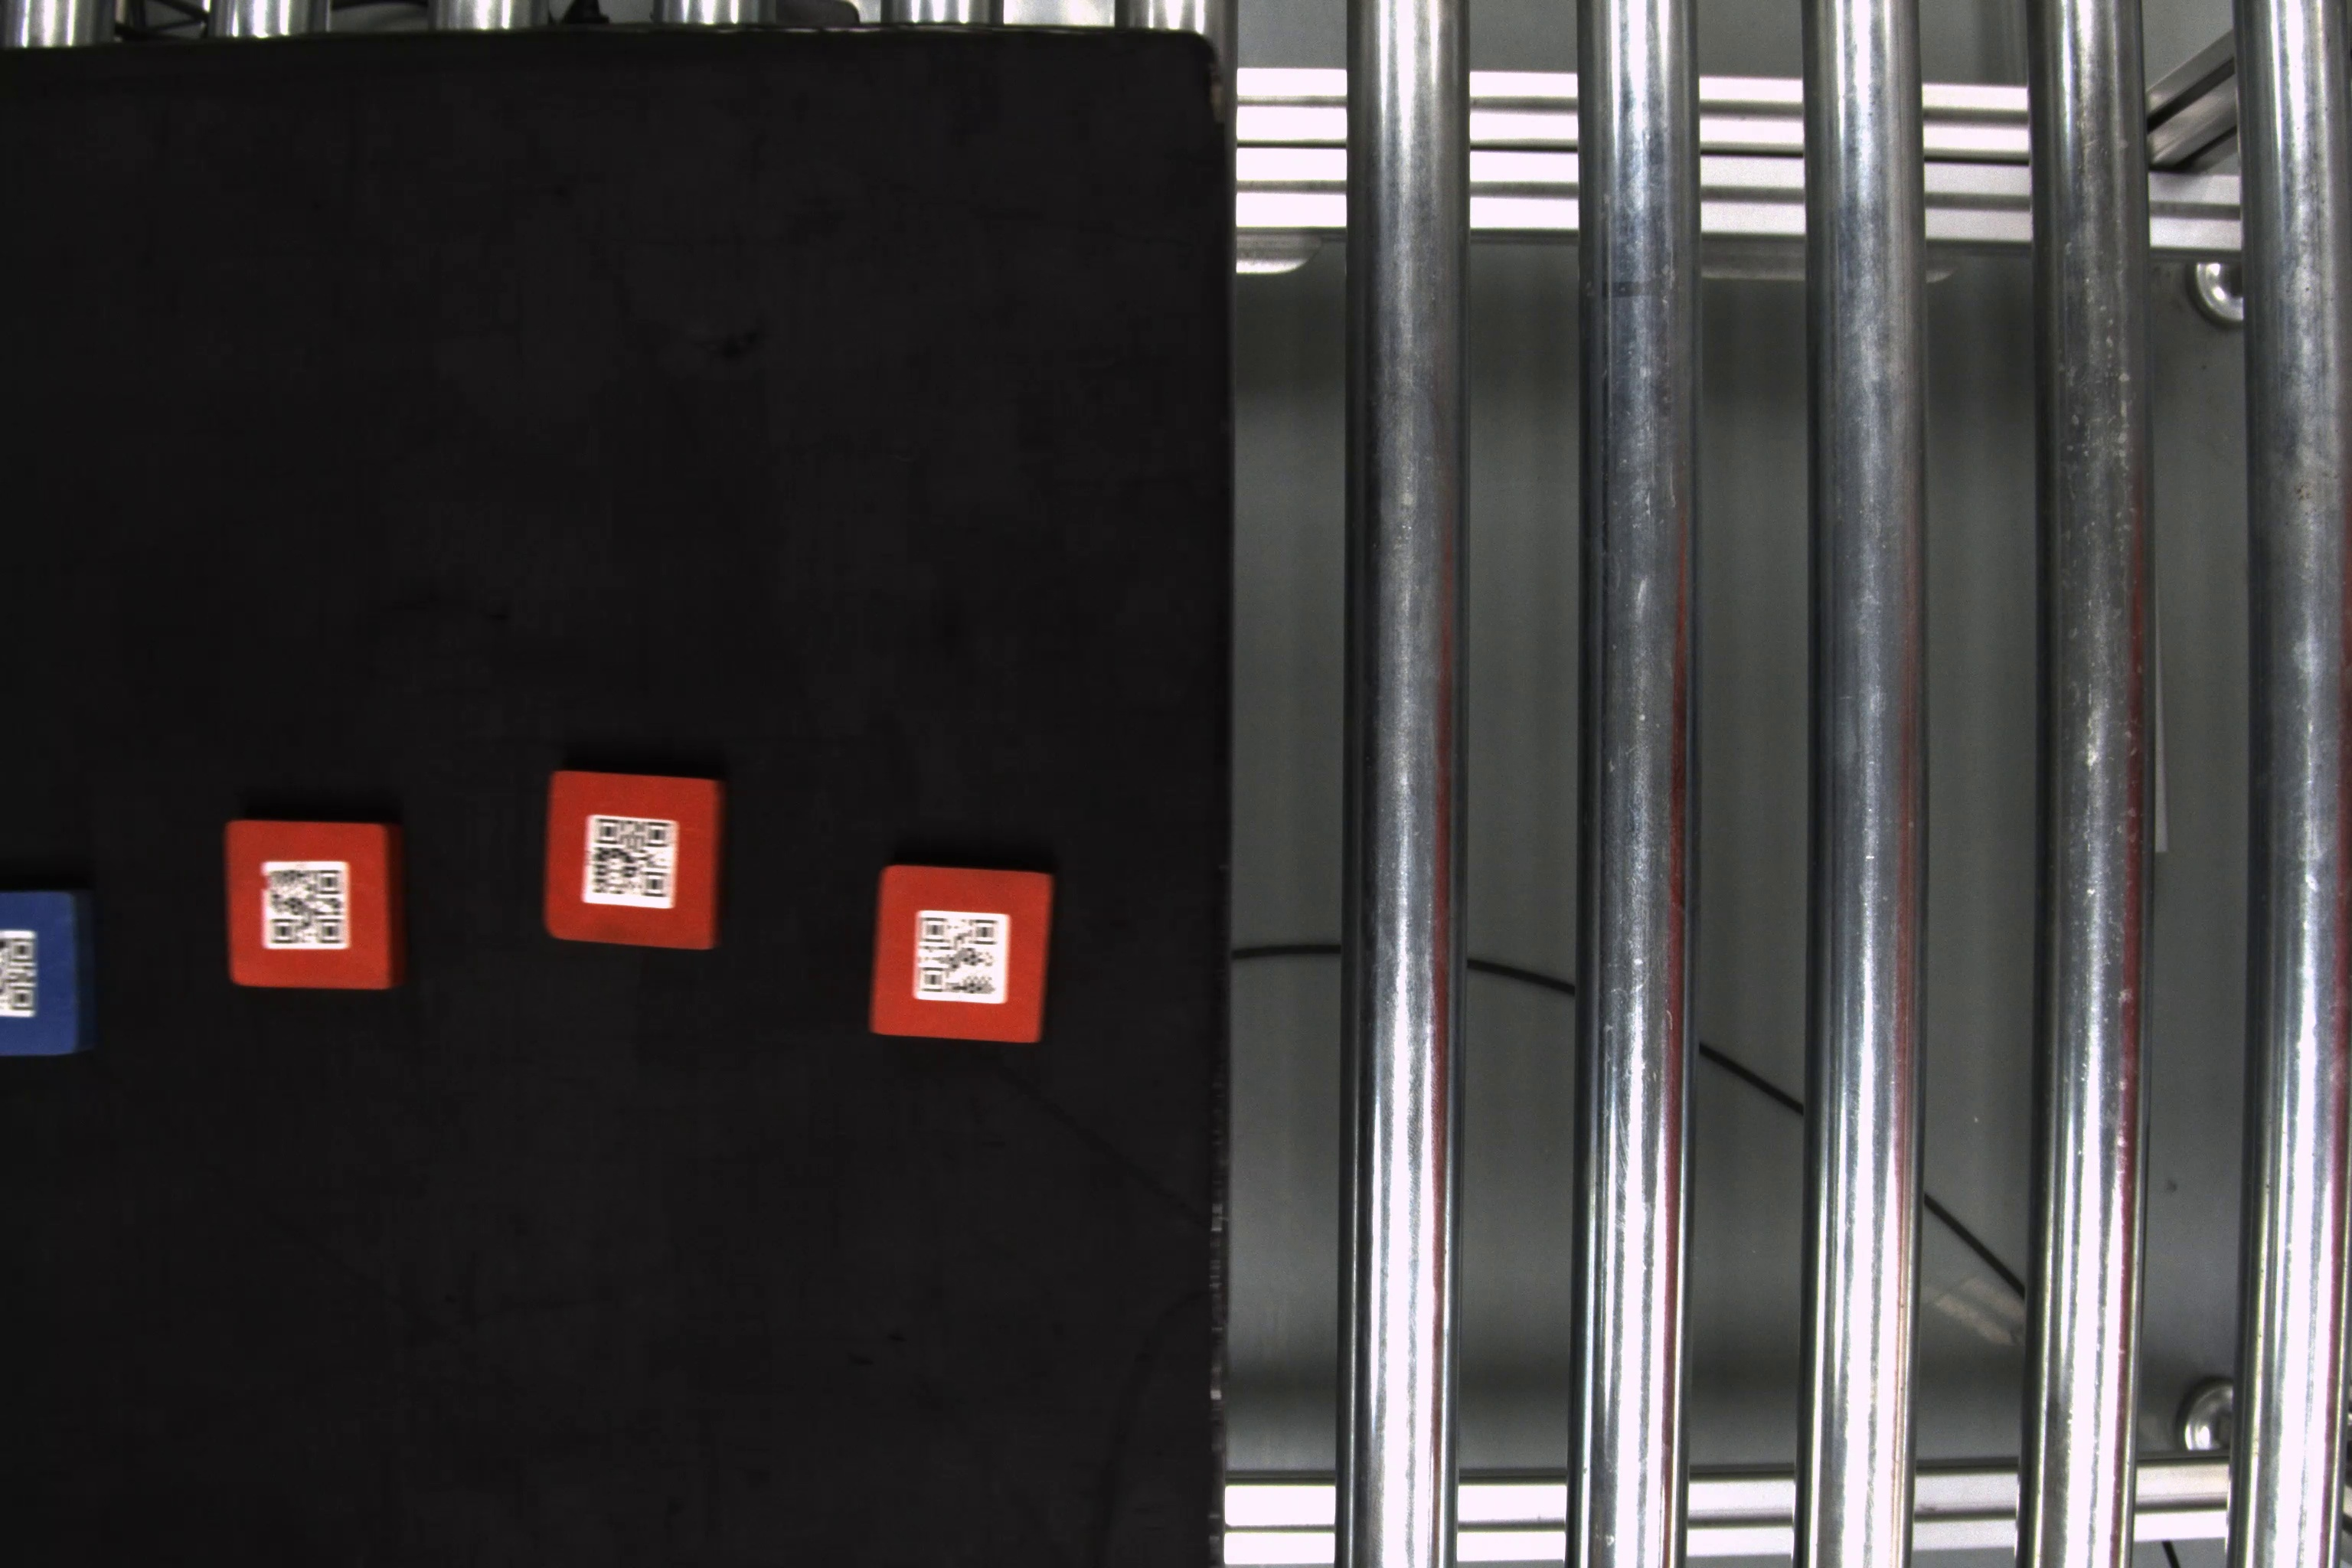wood: (537, 766, 733, 961), (866, 852, 1060, 1043), (220, 819, 413, 1001), (2, 887, 105, 1066)
